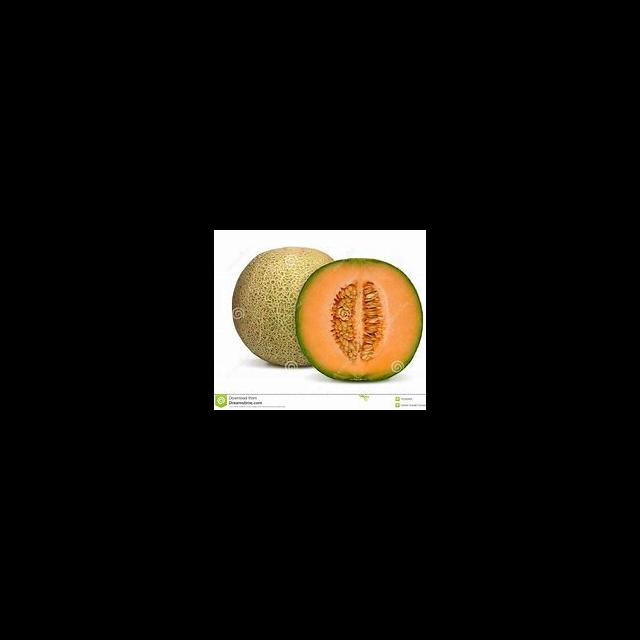Hami Melon: (297, 257, 426, 383), (233, 246, 336, 368)
